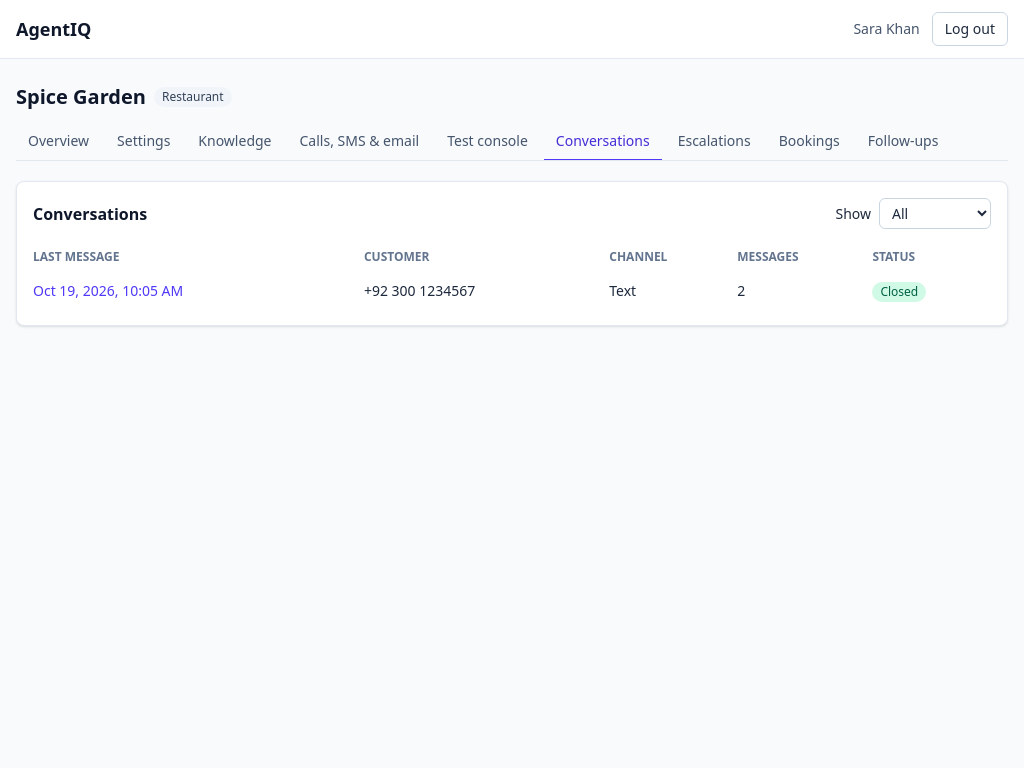
Test case: conversation logs (TC-08 step 3) › lists conversations and shows what the agents did in one
Check: the text "+92 300 1234567" is shown, box [364,273,609,309]
Click the link "Oct 19, 2026, 10:05 AM" at (108, 290), box [33,281,183,300]
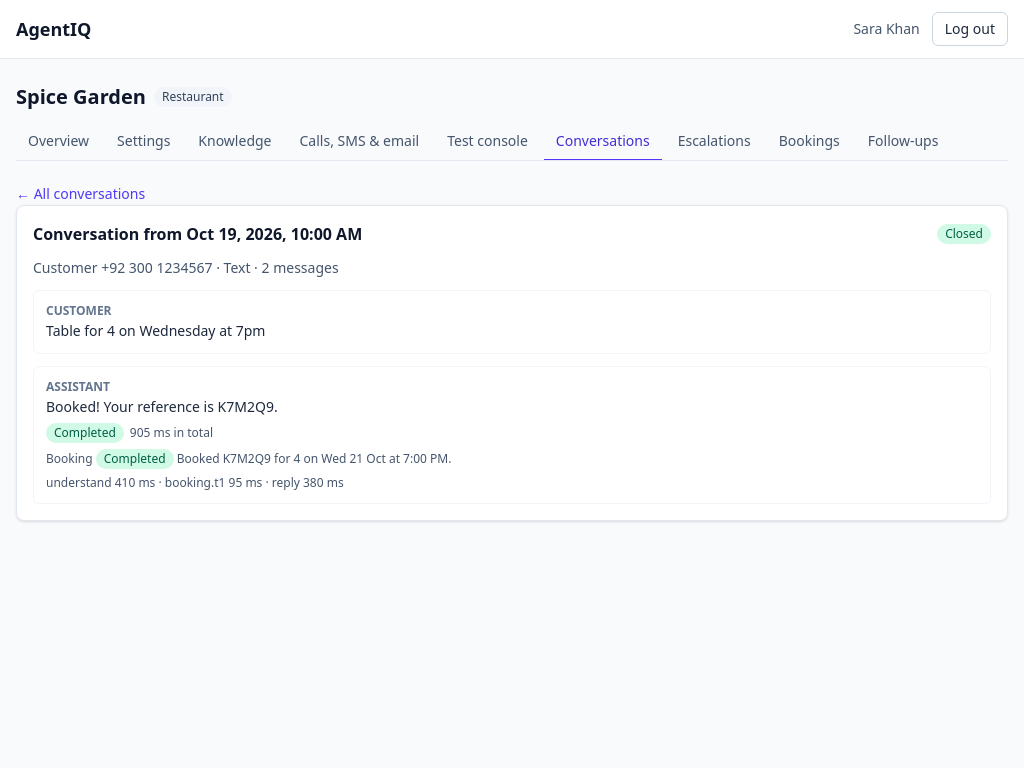
Check: the text "Table for 4 on Wednesday at 7pm" is shown, box [46,321,265,340]
Check: the text "Booked! Your reference is K7M2Q9." is shown, box [46,397,278,416]
Check: the list item "Booked K7M2Q9 for 4" is shown, box [177,450,451,467]
